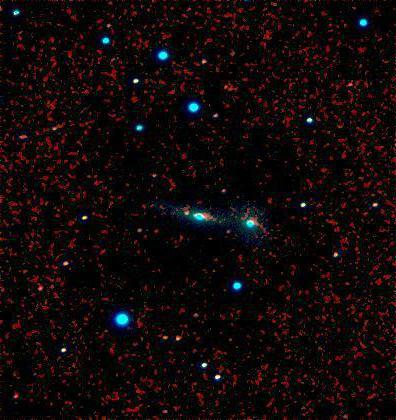star: (164, 200, 194, 230)
